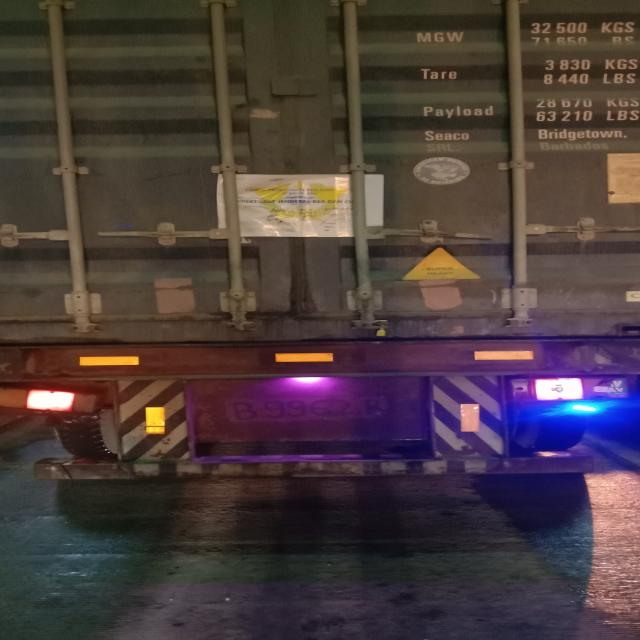seal: (372, 315, 393, 339)
